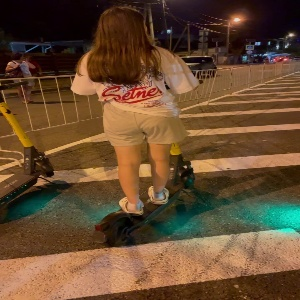human on a scooter: (70, 6, 203, 248)
